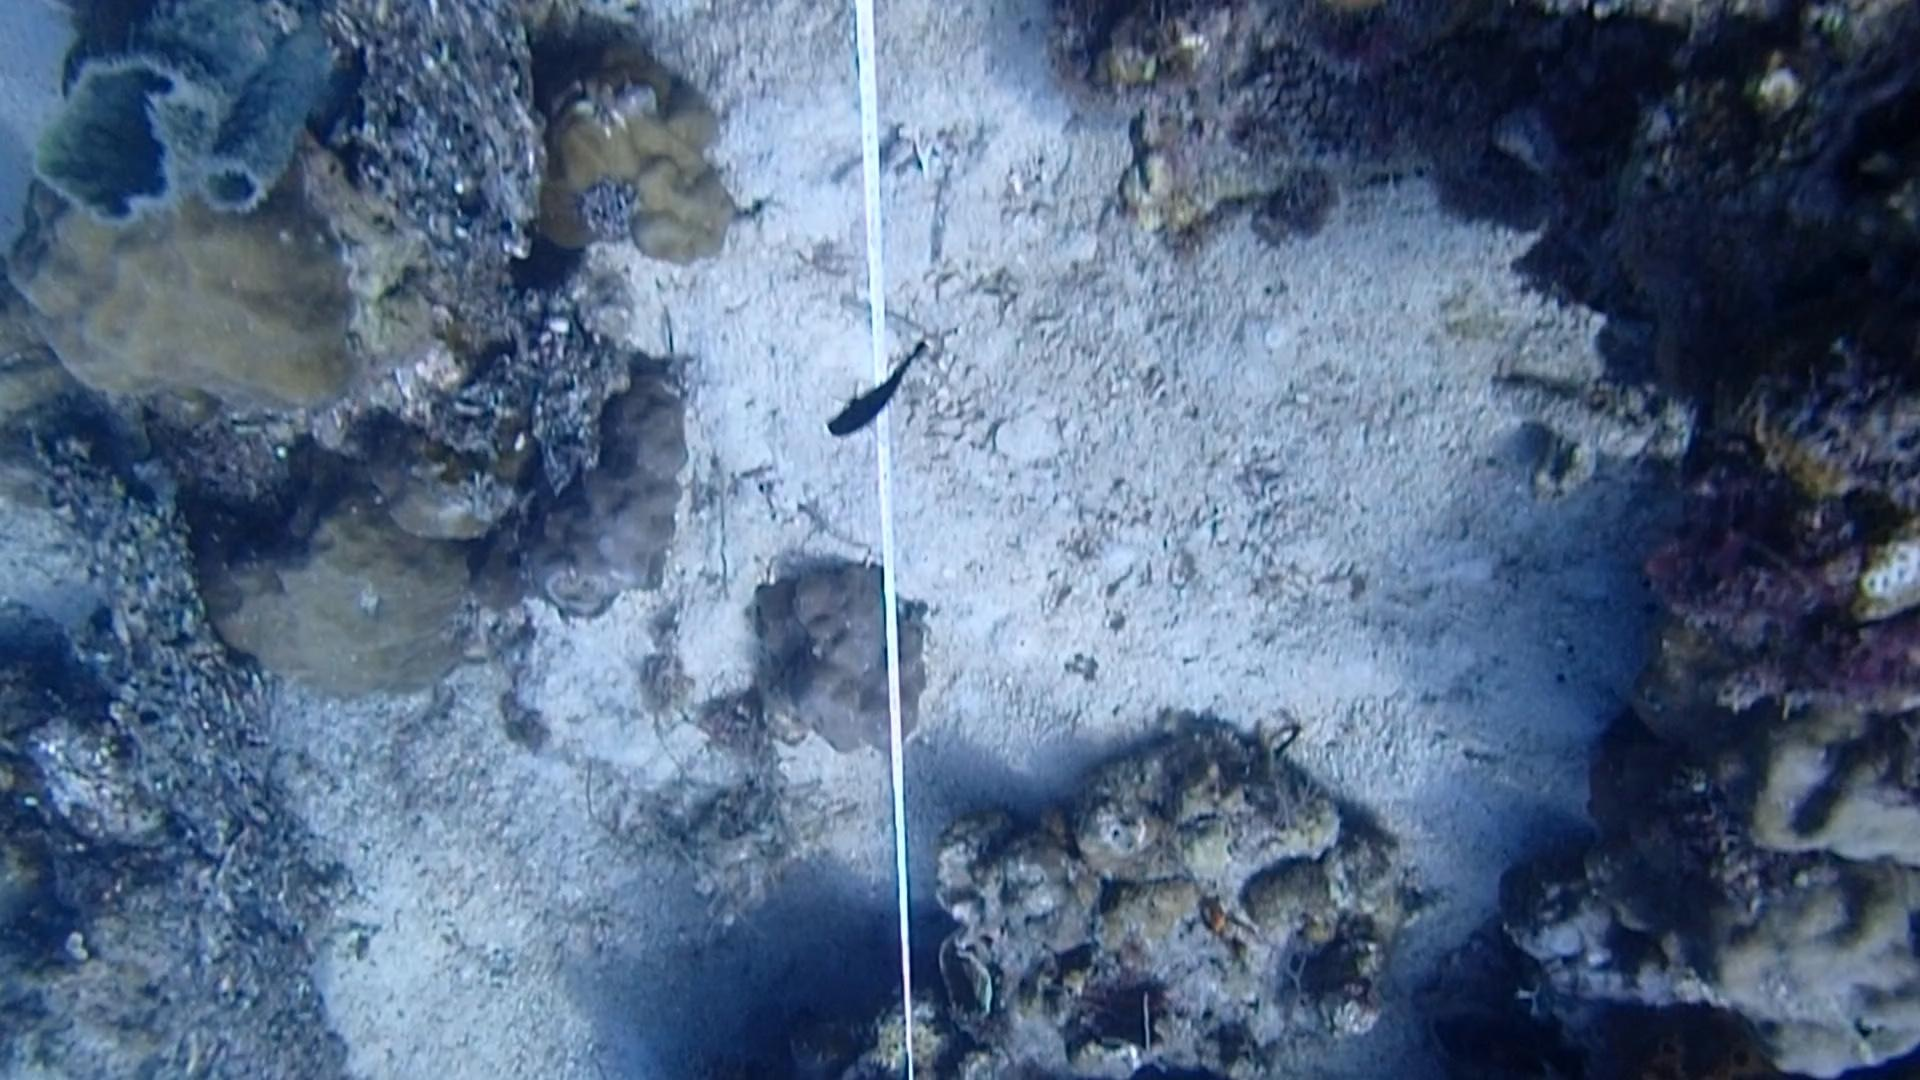Big Dark Blue Fish: (1427, 994, 1593, 1080)
Dark Fish: (807, 344, 940, 451)
